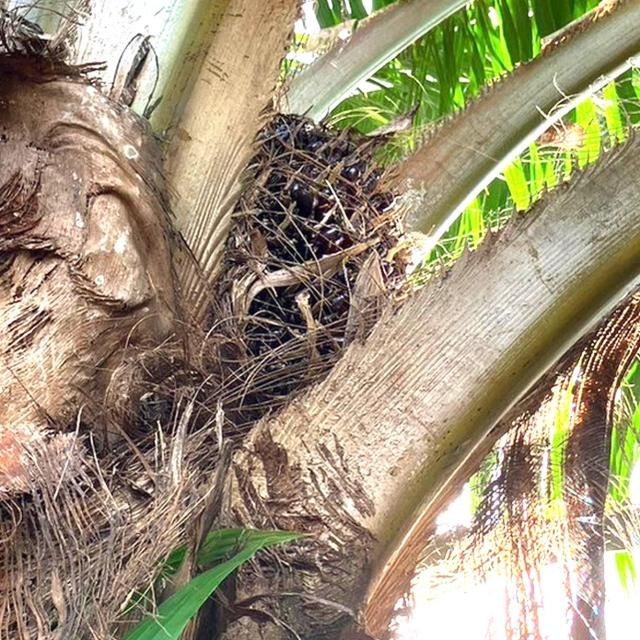unripe: (204, 101, 435, 433)
